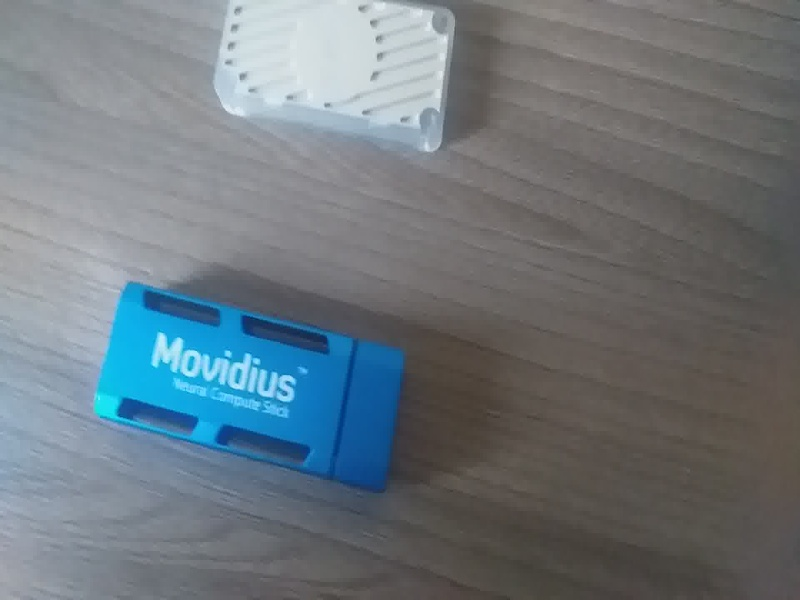coral: (200, 4, 469, 158)
movidius: (91, 275, 427, 510)
